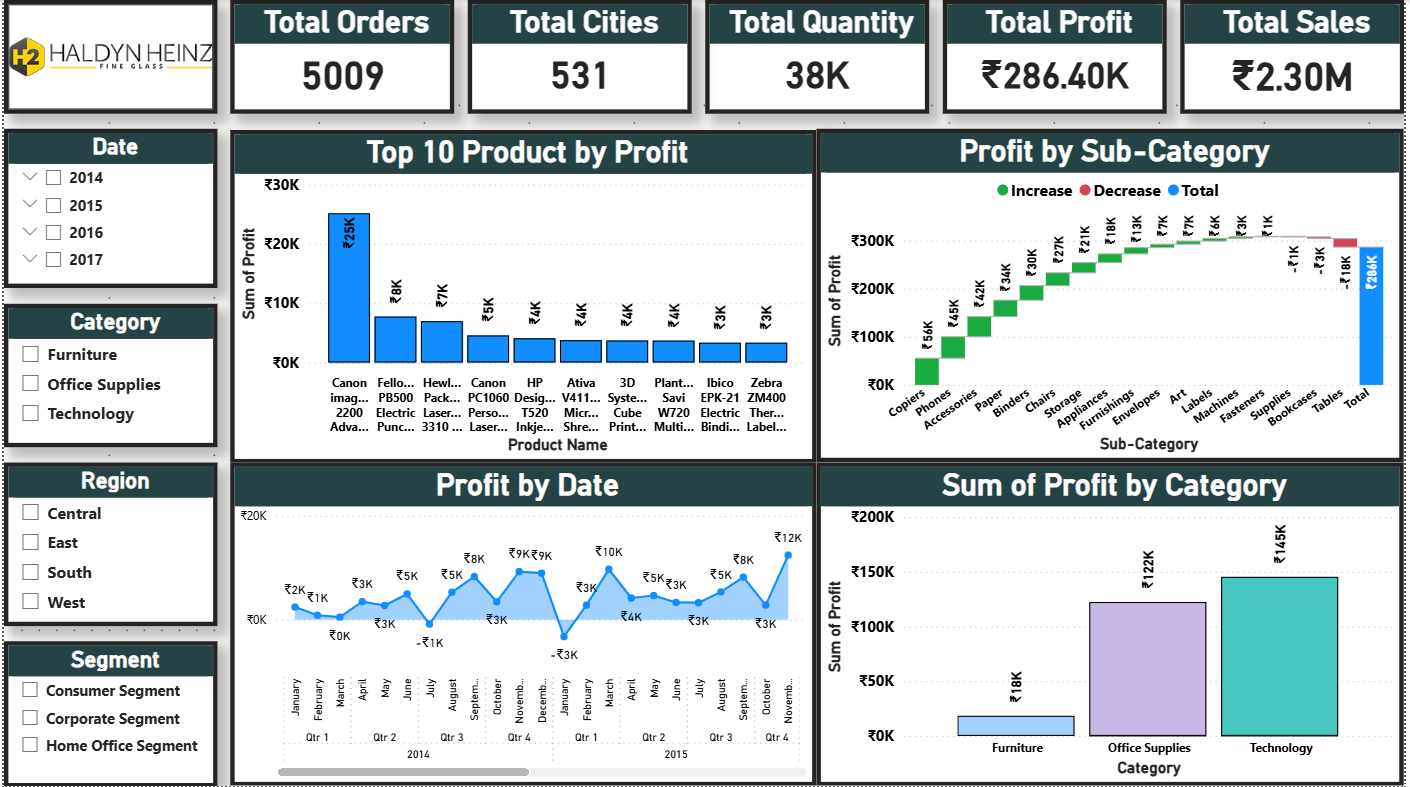

What the dashboard file says about the page in this screenshot:
{"tool":"powerbi","page":{"name":"Profit Analysis","canvas":[1280,720],"ordinal":2},"visuals":[{"type":"image","box":[0,0,195.4,104],"z":0},{"type":"cardVisual","title":"Total Sales","fields":{"Data":["Sum(Orders.Sales)"]},"box":[1075,0,205,104.3],"z":1000},{"type":"cardVisual","title":"Total Quantity","fields":{"Data":["Sum(Orders.Quantity)"]},"box":[641.1,0,205,104.3],"z":2000},{"type":"cardVisual","title":"Total Cities","fields":{"Data":["Count(Orders.City)"]},"box":[424.2,0,205,104.3],"z":3000},{"type":"cardVisual","title":"Total Orders","fields":{"Data":["Count(Orders.Order ID)"]},"box":[207.3,0,205,104.3],"z":4000},{"type":"cardVisual","title":"Total Profit","fields":{"Data":["Sum(Orders.Profit)"]},"box":[858,0,205,104.3],"z":5000},{"type":"slicer","title":"Date","fields":{"Values":["Orders.Order Date.Variation.Date Hierarchy.Year","Orders.Order Date.Variation.Date Hierarchy.Quarter","Orders.Order Date.Variation.Date Hierarchy.Month","Orders.Order Date.Variation.Date Hierarchy.Day"]},"box":[0,118,195.6,145.8],"z":6000},{"type":"slicer","title":"Category","fields":{"Values":["Orders.Category"]},"box":[0,277.8,195.6,131.6],"z":7000},{"type":"slicer","title":"Region","fields":{"Values":["Orders.Region"]},"box":[0,423.3,195.6,149.3],"z":8000},{"type":"slicer","title":"Segment","fields":{"Values":["Orders.Segment"]},"box":[0,586.1,195.6,133.9],"z":9000},{"type":"columnChart","title":"Top 10 Product by Profit","fields":{"Category":["Orders.Product Name"],"Y":["Sum(Orders.Profit)"]},"box":[207.4,118.5,535.7,304.6],"z":10000},{"type":"waterfallChart","title":"Profit by Sub-Category","fields":{"Category":["Orders.Sub-Category"],"Y":["Sum(Orders.Profit)"]},"box":[743,118.3,537,304.7],"z":11000},{"type":"areaChart","title":"Profit by Date","fields":{"Category":["Orders.Order Date.Variation.Date Hierarchy.Year","Orders.Order Date.Variation.Date Hierarchy.Quarter","Orders.Order Date.Variation.Date Hierarchy.Month","Orders.Order Date.Variation.Date Hierarchy.Day"],"Y":["Sum(Orders.Profit)"]},"box":[207.4,423.1,535.7,296.3],"z":12000},{"type":"columnChart","fields":{"Category":["Orders.Category","Orders.Sub-Category","Orders.Product Name"],"Y":["Sum(Orders.Profit)"]},"box":[743,423,537,296],"z":13000}]}

Visuals, with their boxes in screenshot pixels (x1, y1, x2, y2), scaled from the page's 1280x720 canvas onto the 1410x787 screenshot:
image: bbox(0, 0, 215, 114)
"Total Sales" cardVisual: bbox(1184, 0, 1409, 114)
"Total Quantity" cardVisual: bbox(706, 0, 932, 114)
"Total Cities" cardVisual: bbox(467, 0, 693, 114)
"Total Orders" cardVisual: bbox(228, 0, 454, 114)
"Total Profit" cardVisual: bbox(945, 0, 1171, 114)
"Date" slicer: bbox(0, 129, 215, 288)
"Category" slicer: bbox(0, 304, 215, 447)
"Region" slicer: bbox(0, 463, 215, 626)
"Segment" slicer: bbox(0, 641, 215, 786)
"Top 10 Product by Profit" columnChart: bbox(228, 130, 819, 462)
"Profit by Sub-Category" waterfallChart: bbox(818, 129, 1409, 462)
"Profit by Date" areaChart: bbox(228, 462, 819, 786)
columnChart - Orders.Category x Orders.Sub-Category: bbox(818, 462, 1409, 786)
